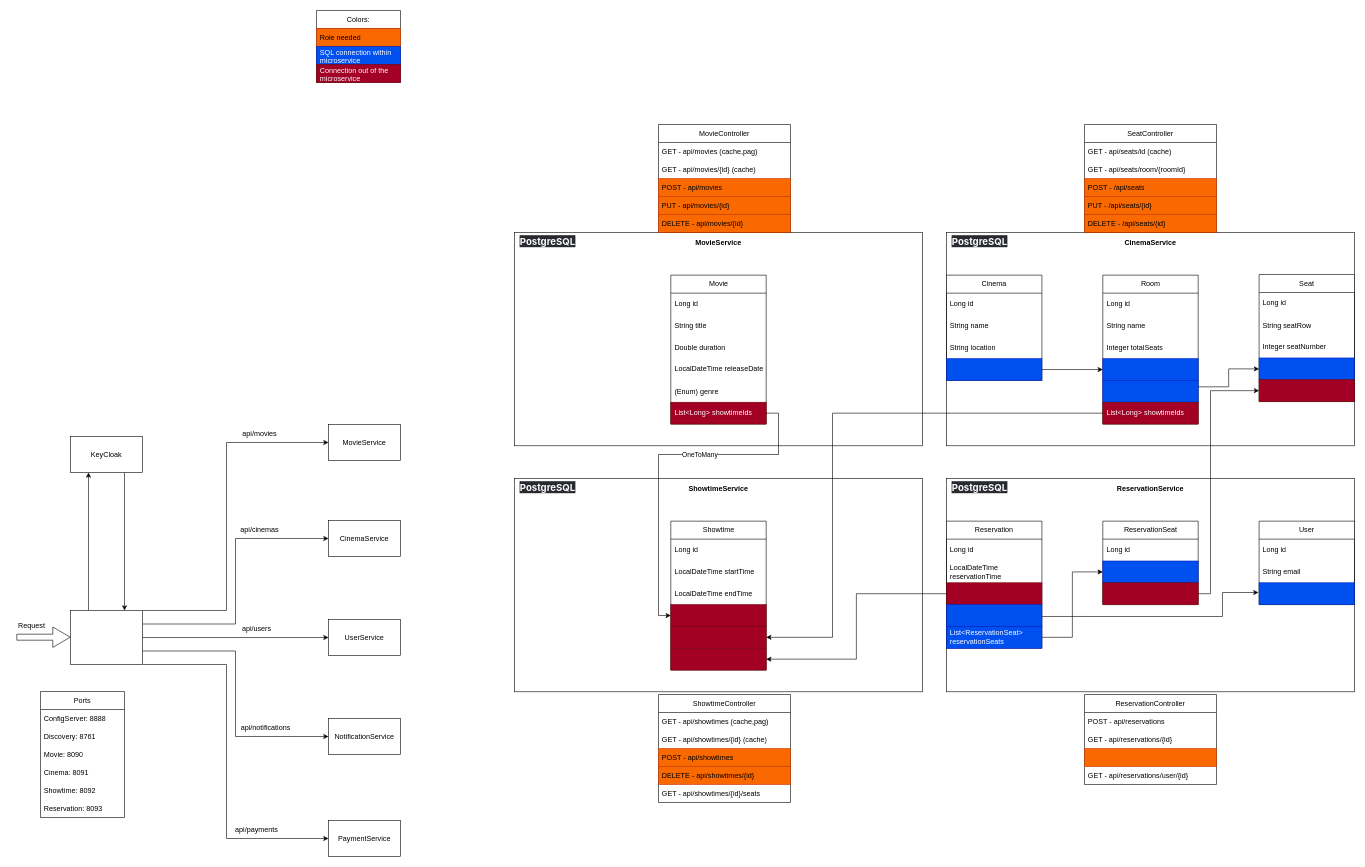
Image size: 1365x867. Some labels were removed from this diagram. Each missing label, with the centre of its shape:
"API Gateway" goes at point 106,637.
"Cinema cinema" goes at point 1150,369.
"DELETE - api/reservations/{id}" goes at point 1150,757.
"List<Long> reservationIds" goes at point 718,659.
"List<Long> reservationSeatIds" goes at point 1306,390.
"List<Reservation> reservations" goes at point 1306,593.
"List<Room> rooms" goes at point 994,369.
"List<Seat> seats" goes at point 1150,391.
"Long movieId" goes at point 718,615.
"Long roomId" goes at point 718,637.
"Long seatId" goes at point 1150,593.
"Long showtimeId" goes at point 994,593.
"Reservation reservation" goes at point 1150,571.
"Room room" goes at point 1306,368.
"User user" goes at point 994,615.
